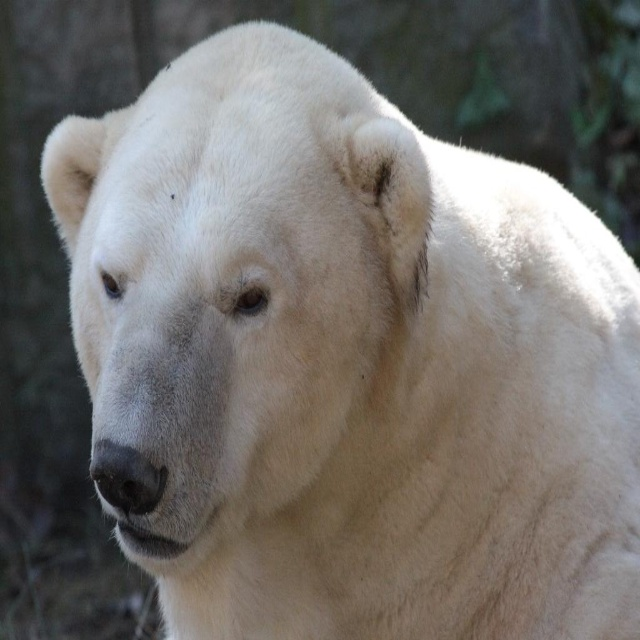Polar bear: (38, 13, 640, 639)
